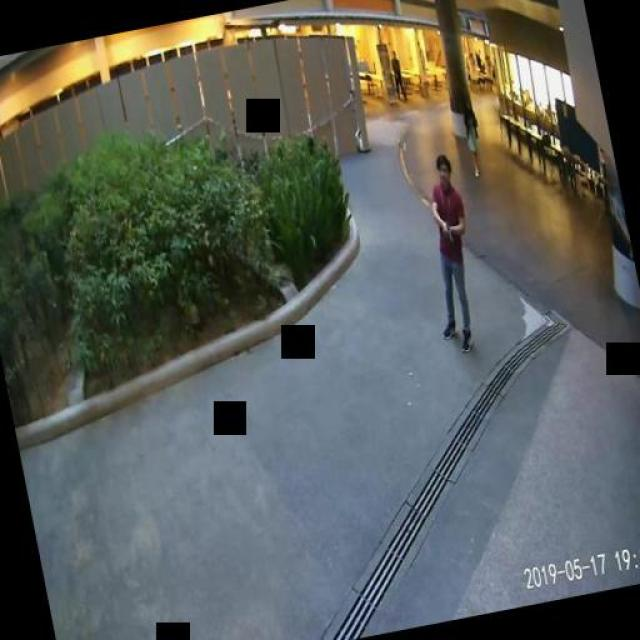gun: (442, 218, 452, 242)
